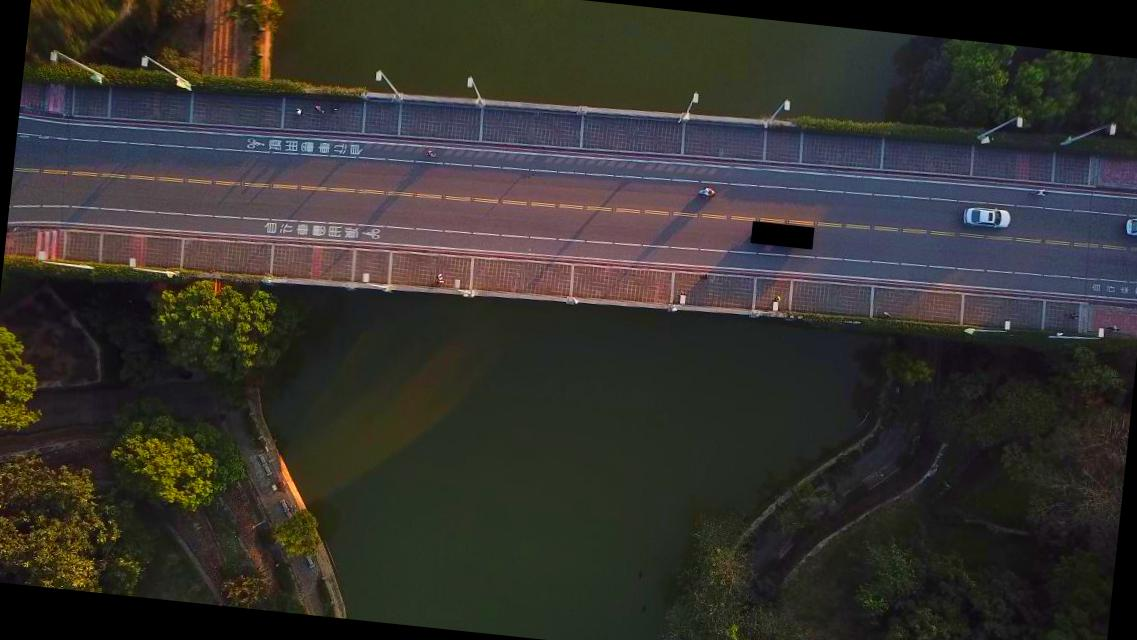vehicle: (961, 206, 1011, 230), (1125, 216, 1136, 239)
